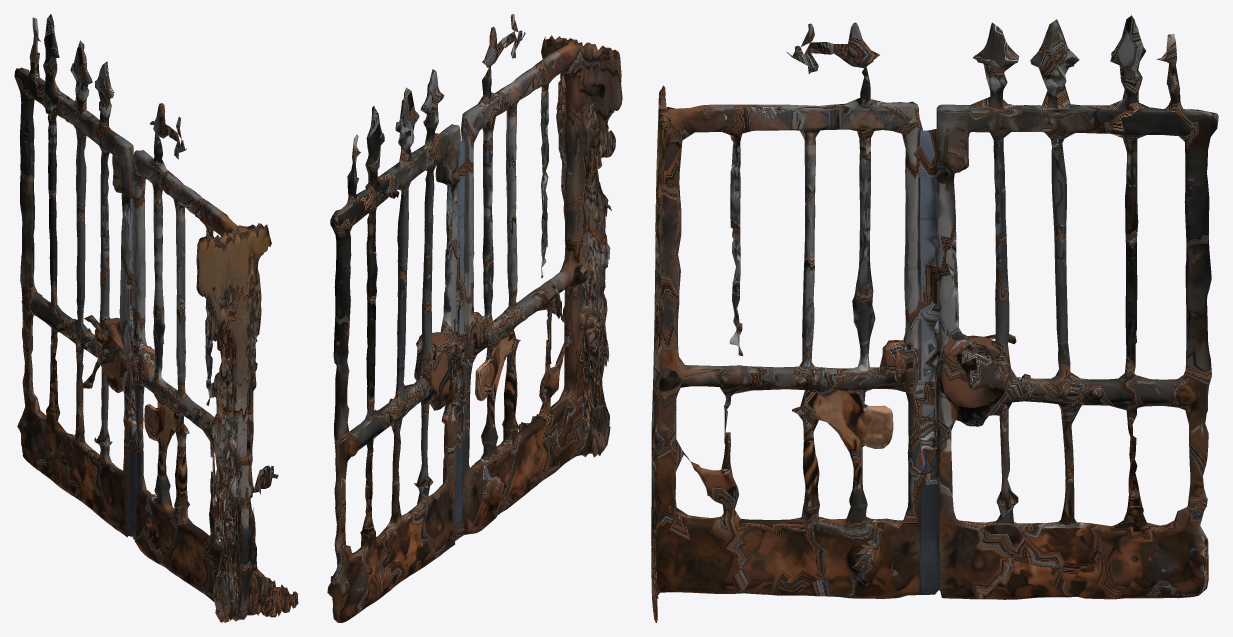
The model's file is بوابة_حديدية.glb.
3 renders of one model, left to right at view 1: azimuth 30°, elevation 25°; view 2: azimuth 150°, elevation 25°; view 3: azimuth 270°, elevation 25°, orthographic. The views are drawn at different scales.
Parts seen in each view (by area): view 1: tripo_node_5e476ca5-f895-482d-909d-e0d5c84fb0c4; view 2: tripo_node_5e476ca5-f895-482d-909d-e0d5c84fb0c4; view 3: tripo_node_5e476ca5-f895-482d-909d-e0d5c84fb0c4.
Boxes of the visible parts, bbox=[...] form: tripo_node_5e476ca5-f895-482d-909d-e0d5c84fb0c4: bbox=[14, 14, 298, 622]; tripo_node_5e476ca5-f895-482d-909d-e0d5c84fb0c4: bbox=[327, 14, 622, 622]; tripo_node_5e476ca5-f895-482d-909d-e0d5c84fb0c4: bbox=[651, 15, 1218, 622].
Bounding box in the file's own units: 0.2202 × 0.9992 × 0.8809.
Materials: 1 (1 with a texture image).
